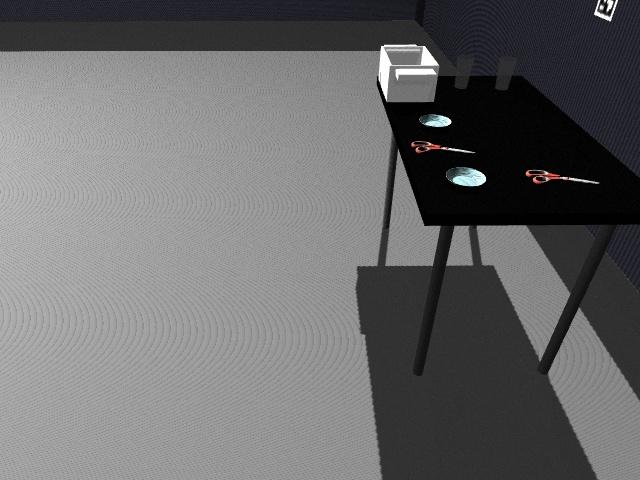cup: (494, 56, 517, 91), (454, 54, 475, 91)
plate: (445, 165, 489, 188), (418, 114, 453, 128)
scissors: (525, 169, 599, 186), (411, 140, 476, 156)
